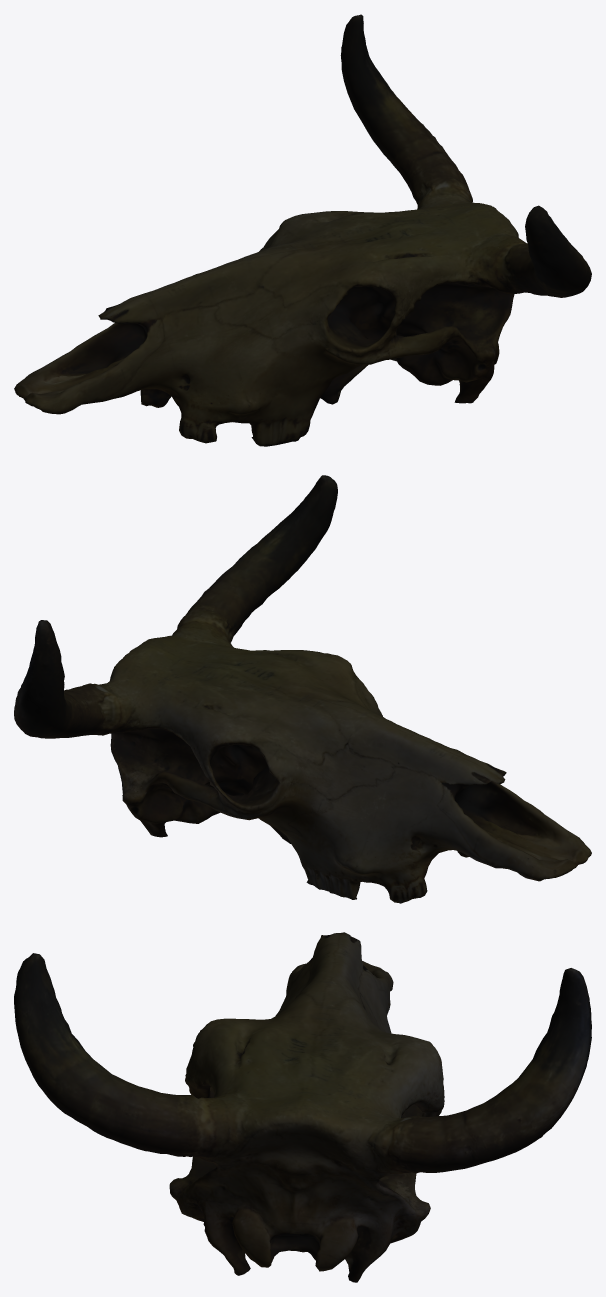
The model's file is model_obj-Holm.glb.
The picture shows the model from 3 angles, top to bottom: view 1: azimuth 30°, elevation 25°; view 2: azimuth 150°, elevation 25°; view 3: azimuth 270°, elevation 25°; orthographic projection. The views are drawn at different scales.
Parts seen in each view (by area): view 1: Node1; view 2: Node1; view 3: Node1.
Part boxes in pixels (left/top/right/bottom): Node1: left=14, top=14, right=591, bottom=446; Node1: left=14, top=475, right=591, bottom=903; Node1: left=14, top=932, right=591, bottom=1282.
Size of the model in its own units: 0.5449 by 0.2948 by 0.4793.
Materials: 1 (1 with a texture image).
